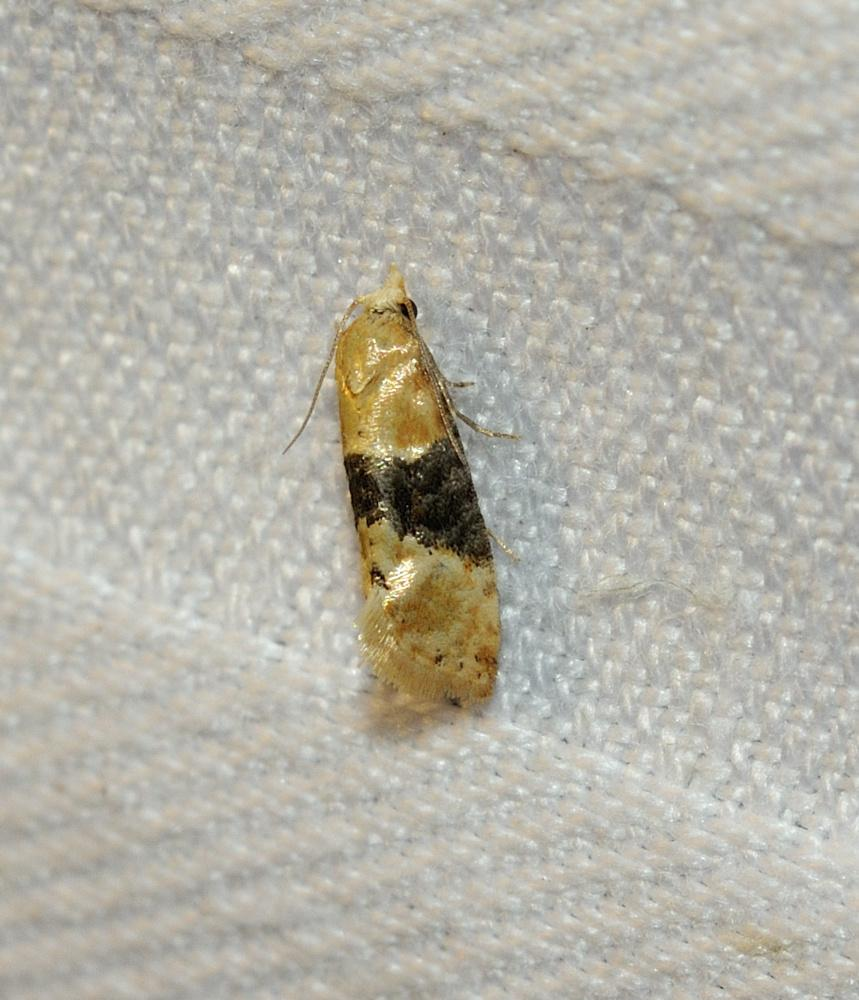Eupoecilia Ambiguella: (280, 262, 519, 714)
